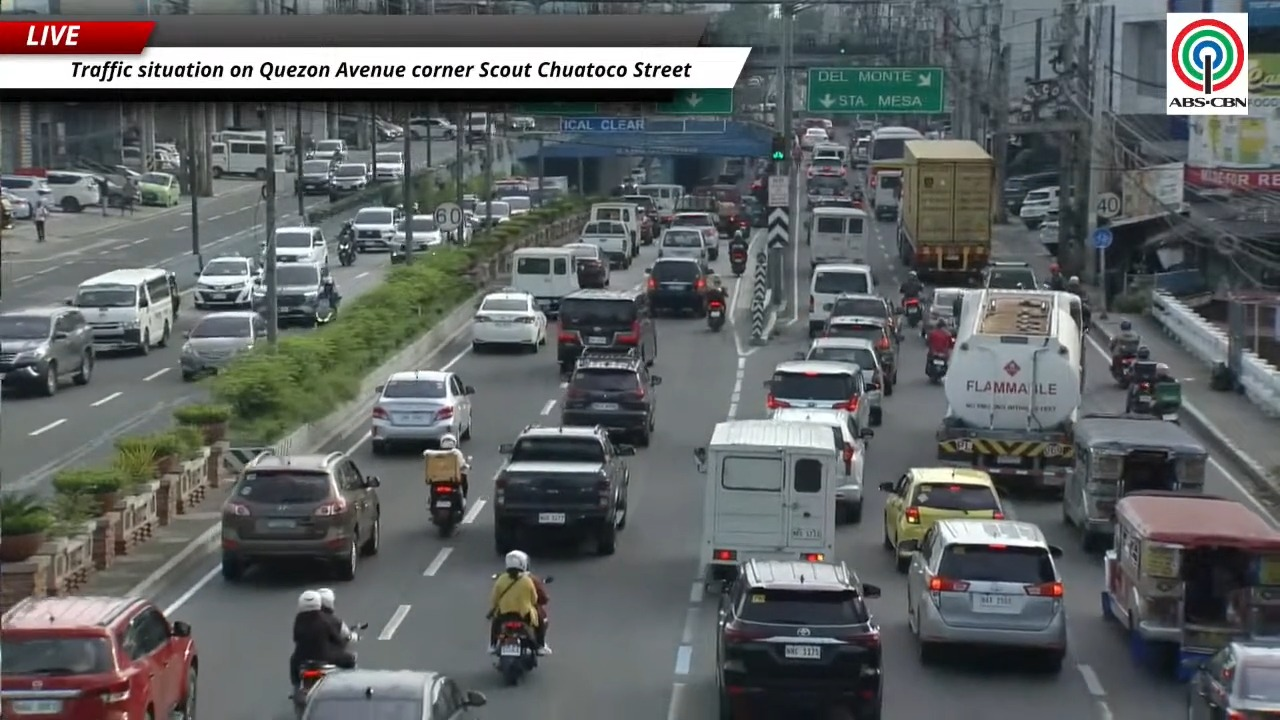bus: (866, 126, 923, 195), (210, 138, 267, 179), (210, 130, 266, 142)
car: (716, 560, 883, 717), (907, 513, 1067, 672), (0, 595, 201, 719), (221, 450, 380, 581), (492, 425, 634, 555), (880, 467, 1004, 571), (771, 408, 873, 522), (561, 348, 661, 446), (301, 668, 486, 719), (370, 370, 474, 453), (557, 289, 657, 374), (0, 306, 95, 395), (797, 337, 885, 425), (1185, 638, 1279, 719), (764, 360, 869, 426), (179, 310, 267, 380), (820, 316, 897, 394), (472, 291, 547, 352), (276, 263, 335, 326), (645, 258, 707, 316), (192, 255, 257, 309), (829, 293, 898, 330), (44, 170, 102, 212), (1004, 171, 1059, 215), (352, 206, 403, 252), (920, 287, 965, 336), (274, 226, 328, 266), (563, 243, 610, 288), (657, 227, 713, 264), (392, 214, 444, 252), (1018, 185, 1059, 229), (669, 211, 717, 248), (328, 162, 372, 202), (0, 175, 51, 206), (982, 261, 1038, 289), (137, 172, 181, 207), (298, 159, 333, 194), (408, 118, 456, 139), (307, 138, 347, 163), (474, 200, 510, 227), (1038, 213, 1060, 257), (374, 151, 405, 181), (0, 192, 32, 219), (807, 157, 847, 177), (502, 195, 532, 217), (800, 128, 829, 150), (508, 116, 535, 130)
motorcycle: (495, 616, 538, 685), (291, 662, 339, 719), (1126, 381, 1180, 422), (429, 482, 465, 537), (314, 277, 336, 325), (1126, 381, 1154, 414), (1111, 355, 1135, 388), (926, 353, 948, 383), (902, 297, 922, 327), (707, 300, 725, 331), (729, 249, 748, 277), (338, 237, 356, 266), (390, 242, 407, 263)
truck: (936, 289, 1083, 490), (694, 419, 843, 584), (898, 140, 995, 284)
